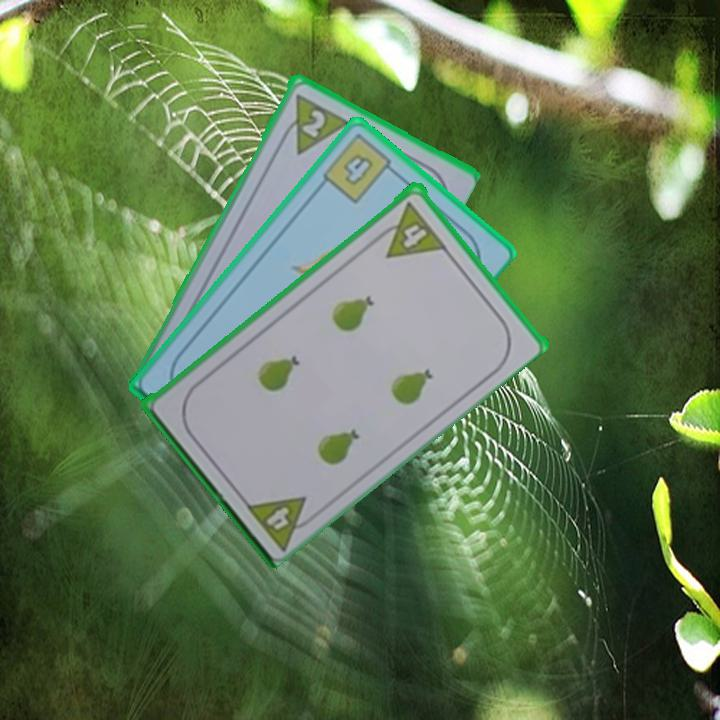2p: (298, 105, 329, 140)
4b: (318, 129, 401, 207)
4p: (386, 215, 445, 261), (262, 501, 293, 533)
